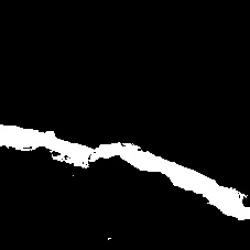crack: (2, 124, 248, 223)
